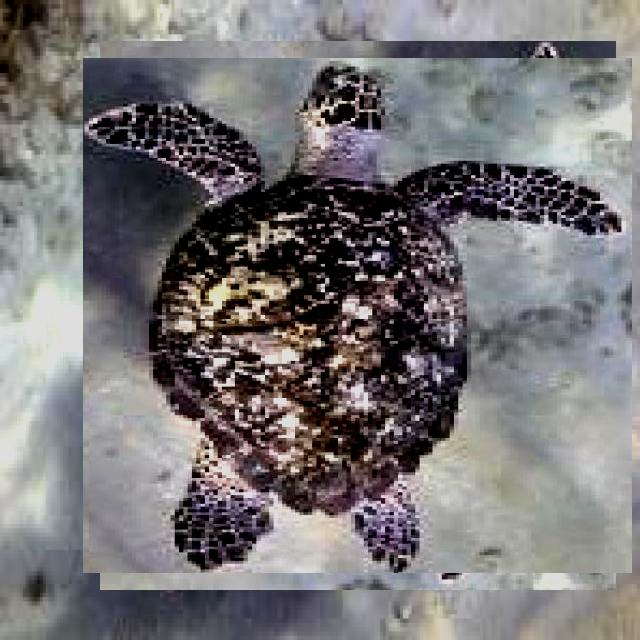Sea turtle: (92, 49, 624, 582)
